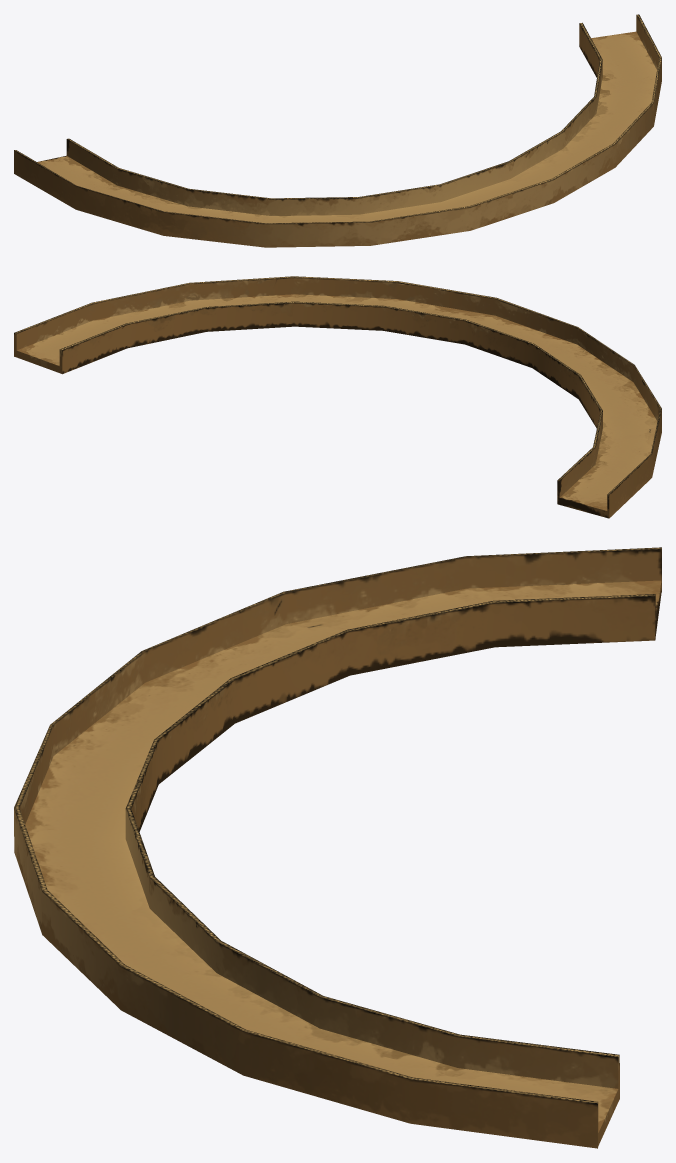
Rendered from SM_Part3_Playtrack.fbx.
The picture shows the model from 3 angles, top to bottom: view 1: azimuth 30°, elevation 25°; view 2: azimuth 150°, elevation 25°; view 3: azimuth 270°, elevation 25°; orthographic projection. The views are drawn at different scales.
Visible parts, largest first — view 1: Panel_3; view 2: Panel_3; view 3: Panel_3.
Boxes of the visible parts, x1,y1,x2,y2 form: Panel_3: (14,14,661,247); Panel_3: (14,276,661,518); Panel_3: (14,547,661,1148).
Size of the model in its own units: 30184 by 1121 by 14844.
